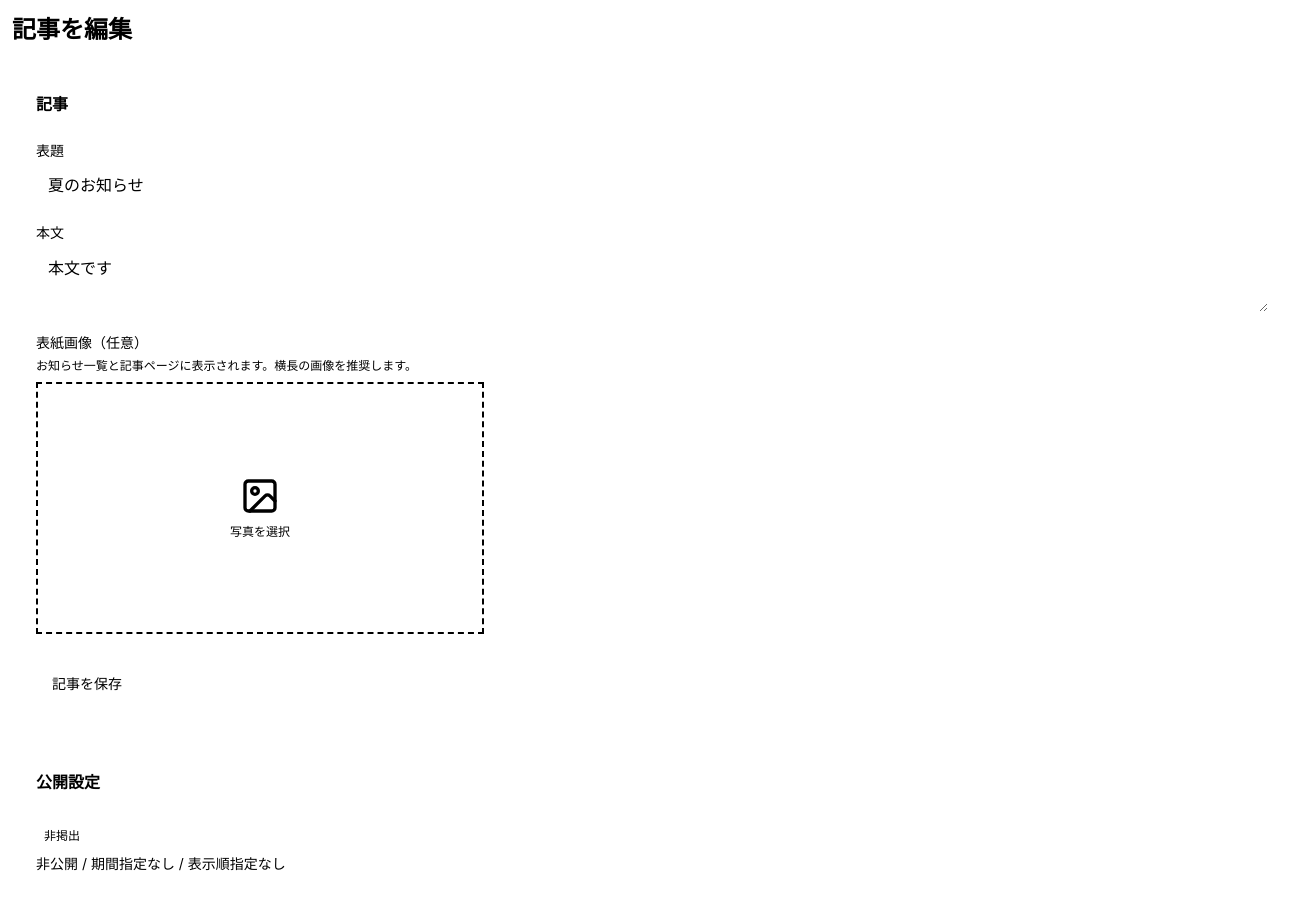
Scenario: 編集 › 409 は競合を表示し、最新の内容を読み込み直してから操作させる
Replace the text in the field labelled "表題" with "改題" at (652, 184), box [36,166,1268,202]
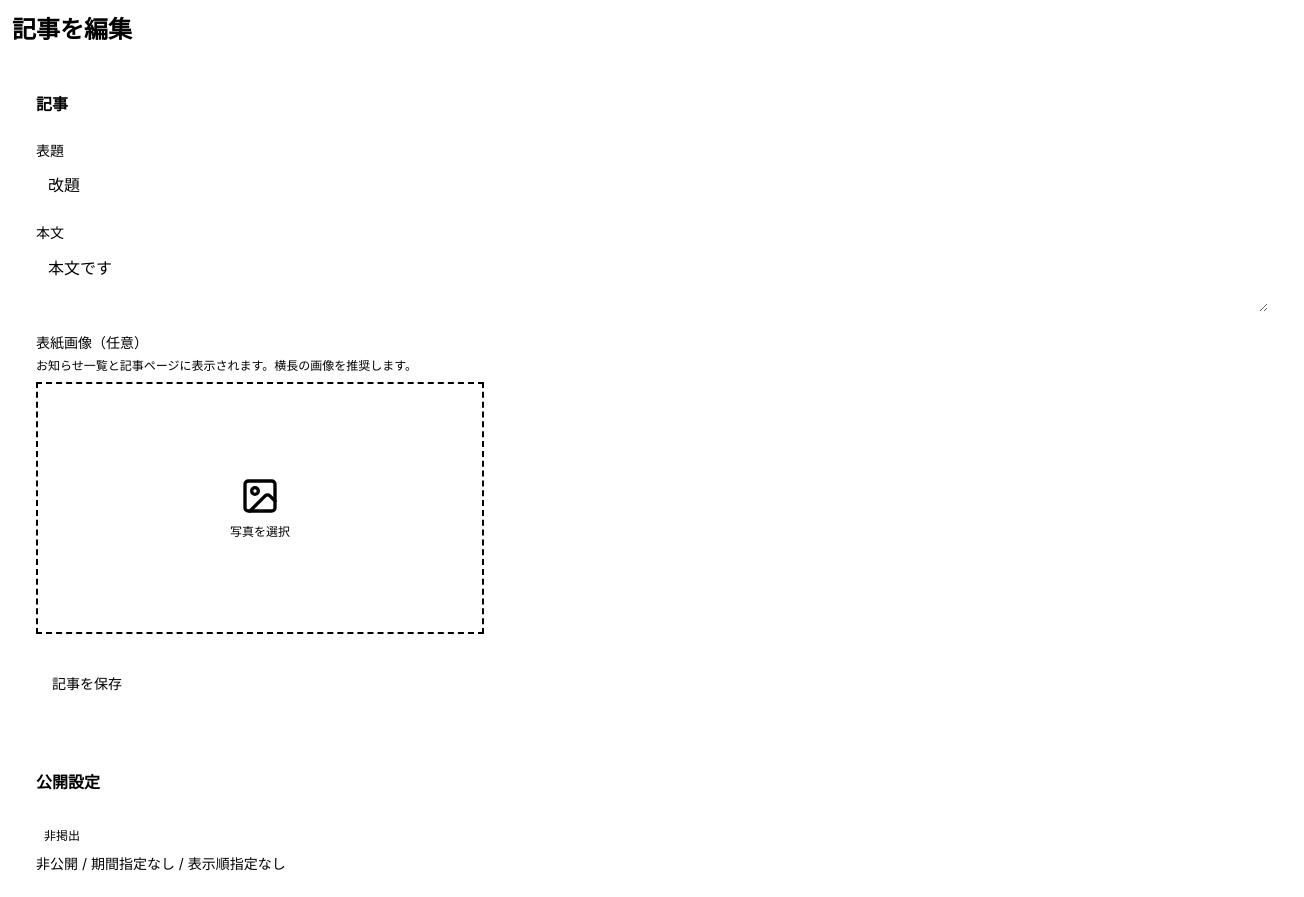
Click the button "記事を保存".
click(87, 684)  # box [36,666,138,702]
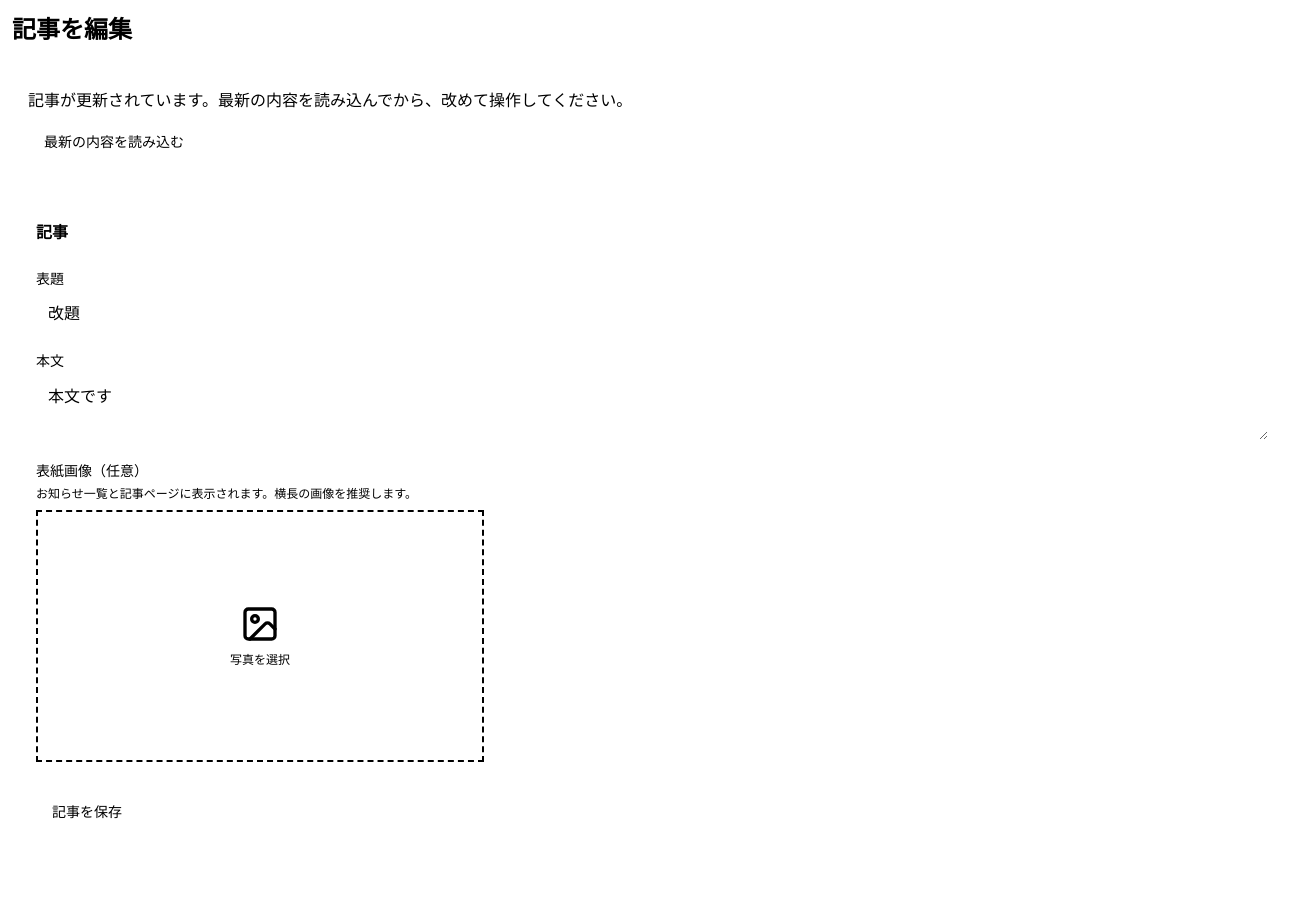
Expected: the text "記事が更新されています。最新の内容を読み込んでから、改めて操作してください。" is shown, [28,90,632,110]
Expected: the button "記事を保存" is disabled, [36,794,138,830]
Click the button "最新の内容を読み込む".
click(114, 142)  # box [28,124,200,160]
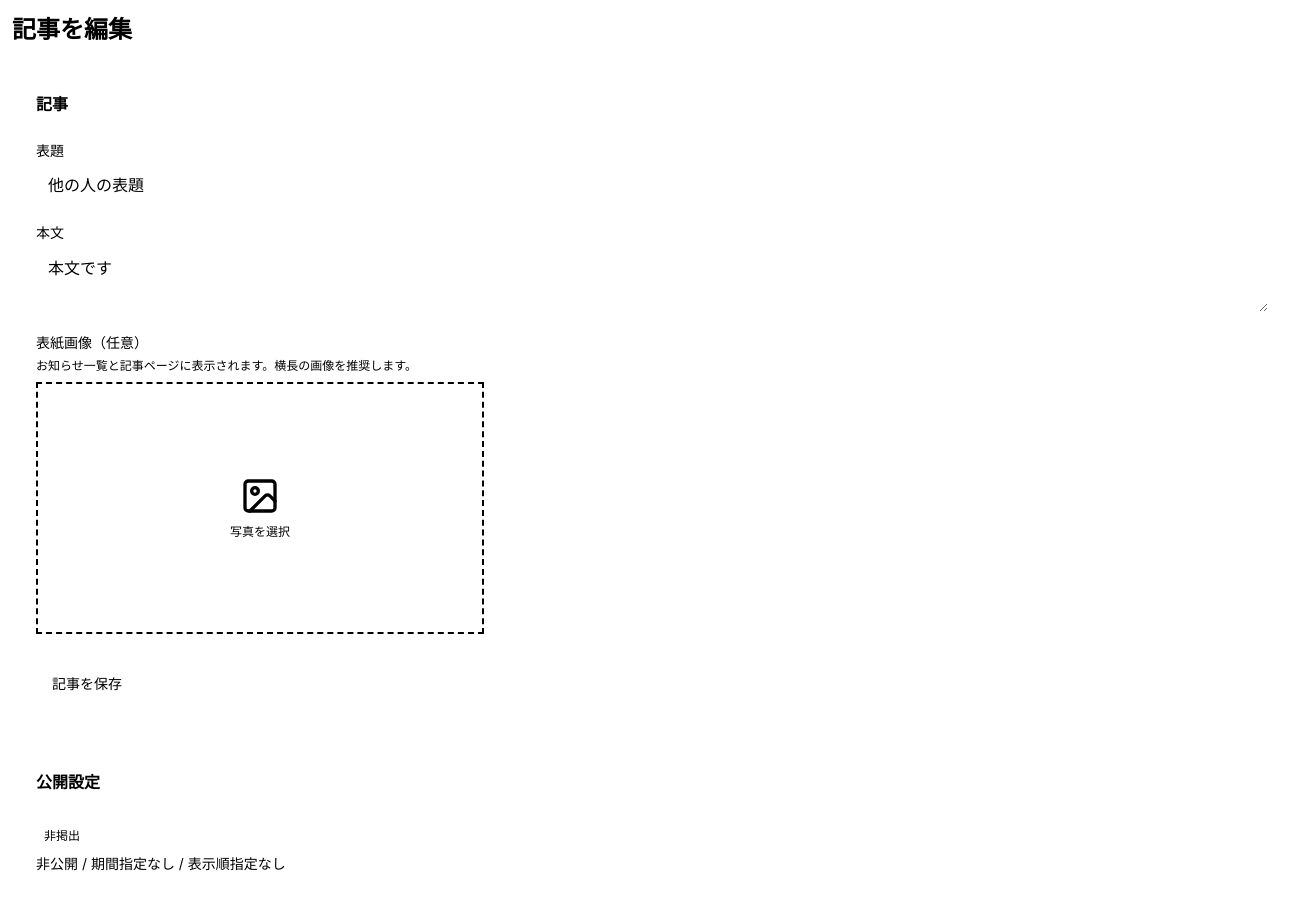
Expected: the field showing "他の人の表題" is shown, [36,166,1268,202]
Expected: the button "記事を保存" is enabled, [36,666,138,702]
